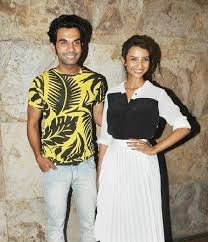Bad: (28, 15, 191, 242)
